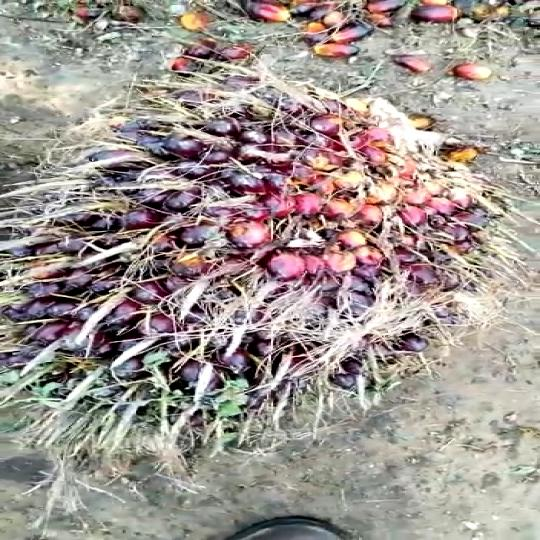kurang masak: (0, 66, 498, 450)
